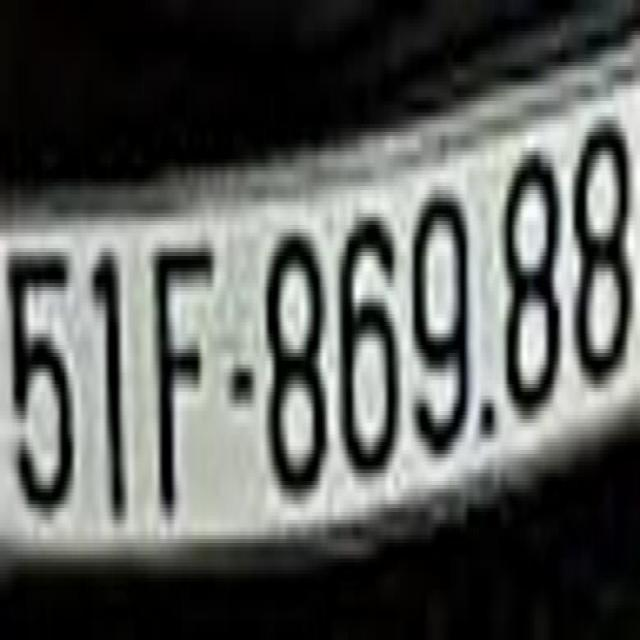1: (89, 248, 133, 516)
5: (9, 228, 76, 524)
6: (338, 210, 401, 492)
8: (266, 221, 332, 504), (574, 120, 634, 400), (503, 147, 561, 427)
9: (410, 190, 472, 473)
F: (154, 240, 217, 512)
